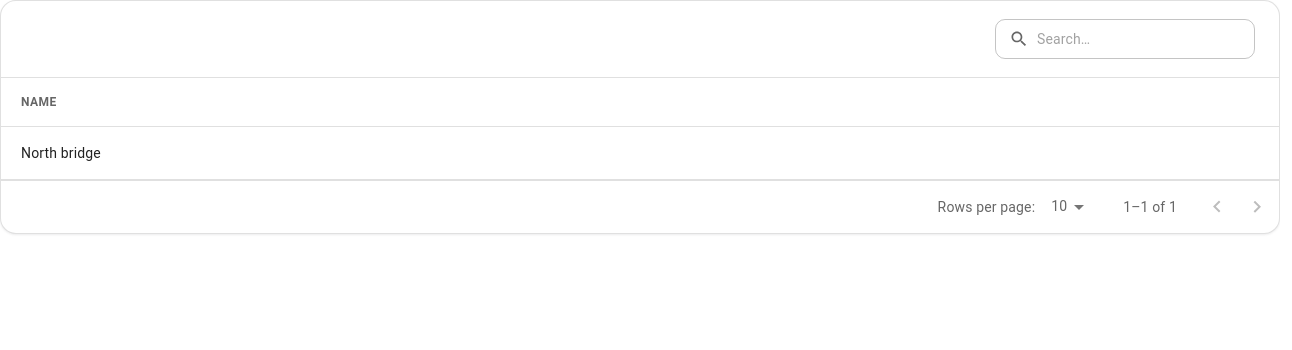
it: DataTable › filters visible rows from the search input
This screenshot has width=1292, height=350.
Type "south" into the field labelled "Search…". click: (1146, 39)
box: [1037,20,1255,58]
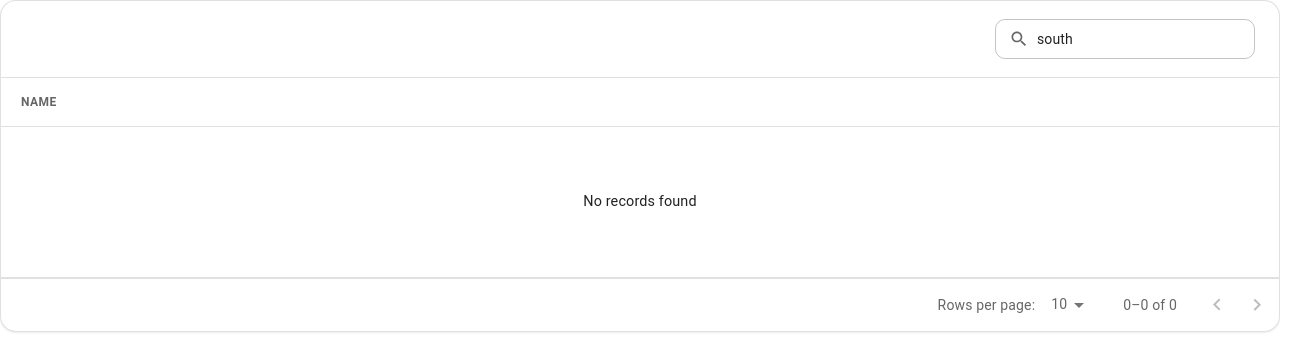
Expected: the text "No records found" is shown, [583,193,697,210]
Expected: the text "North bridge" is gone
